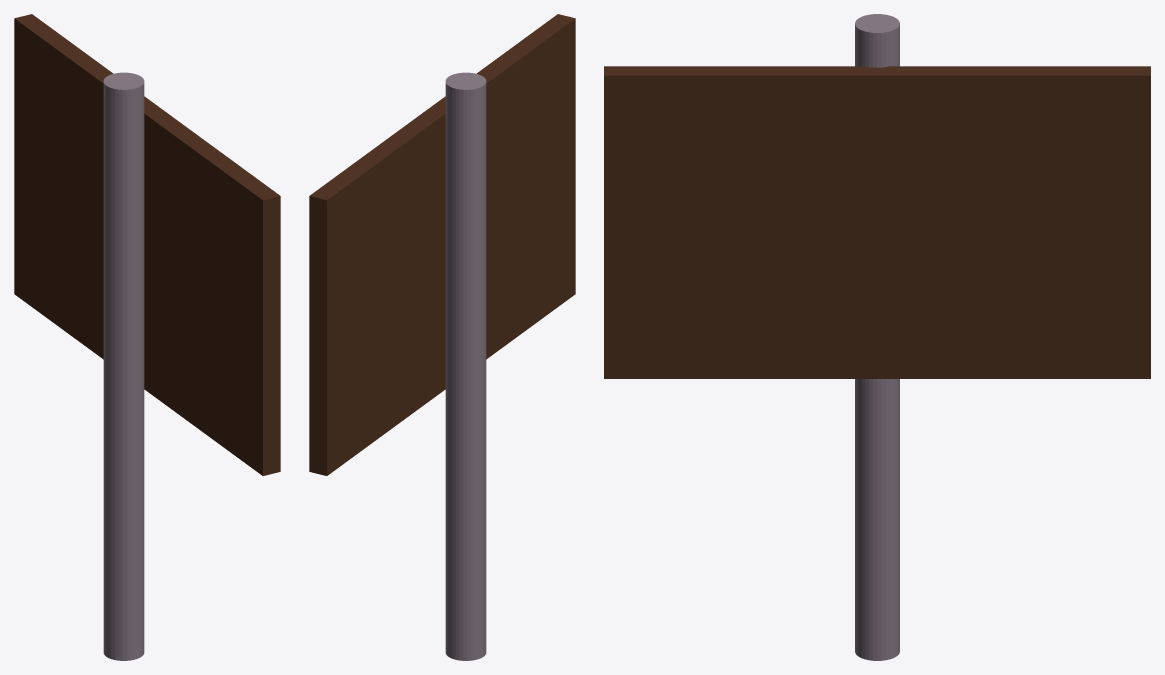
The model's file is sign5.gltf.
3 renders of one model, left to right at view 1: azimuth 30°, elevation 25°; view 2: azimuth 150°, elevation 25°; view 3: azimuth 270°, elevation 25°, orthographic. The views are drawn at different scales.
Visible parts, largest first — view 1: Cube, Cylinder; view 2: Cube, Cylinder; view 3: Cube, Cylinder.
Boxes of the visible parts, x1=… form: Cube: x1=14, y1=14, x2=280, y2=475; Cylinder: x1=103, y1=72, x2=144, y2=660; Cube: x1=309, y1=14, x2=575, y2=475; Cylinder: x1=445, y1=72, x2=486, y2=660; Cube: x1=604, y1=66, x2=1150, y2=378; Cylinder: x1=855, y1=14, x2=899, y2=660.
Size of the model in its own units: 0.2824 by 3.07 by 2.42.
